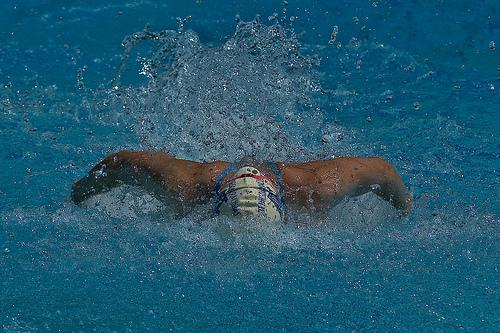human: (70, 146, 416, 235)
